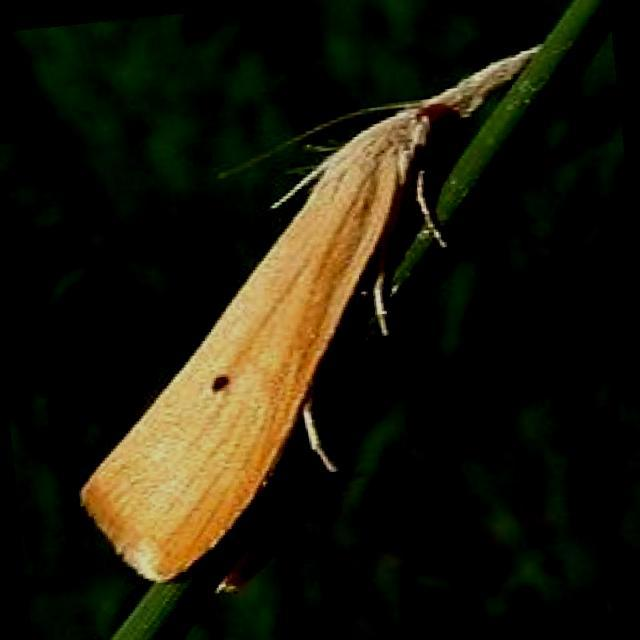stem borer: (81, 46, 539, 581)
